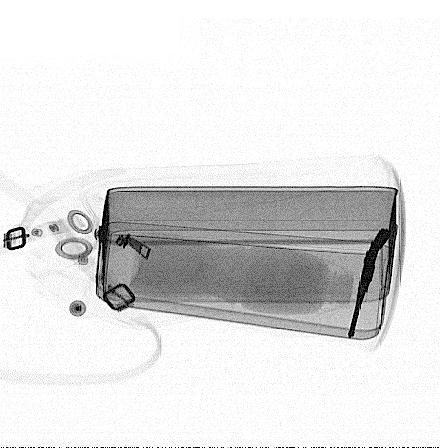Gun: (347, 225, 395, 342)
